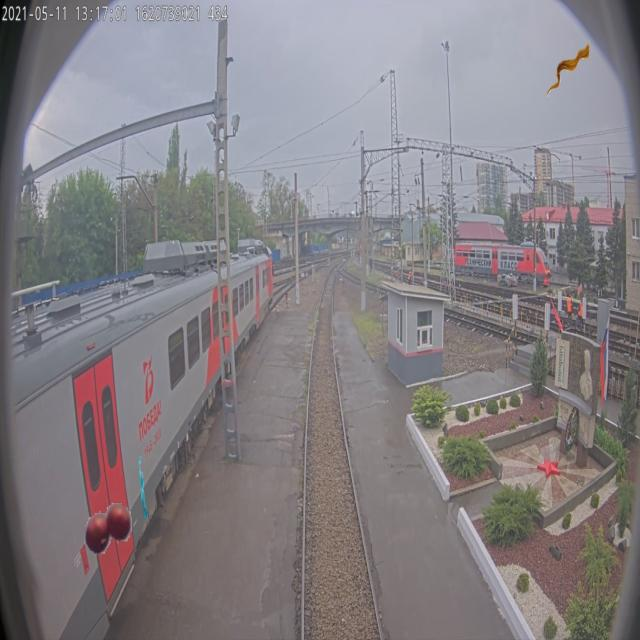balloon: (83, 493, 133, 557)
floating object: (546, 36, 590, 100), (133, 450, 150, 526)
